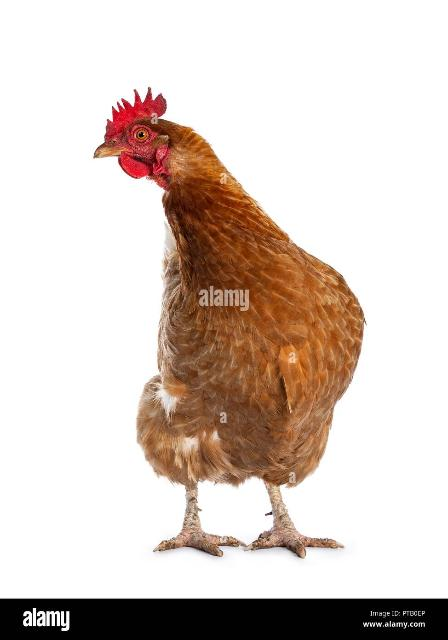Chicken: (92, 86, 367, 557)
